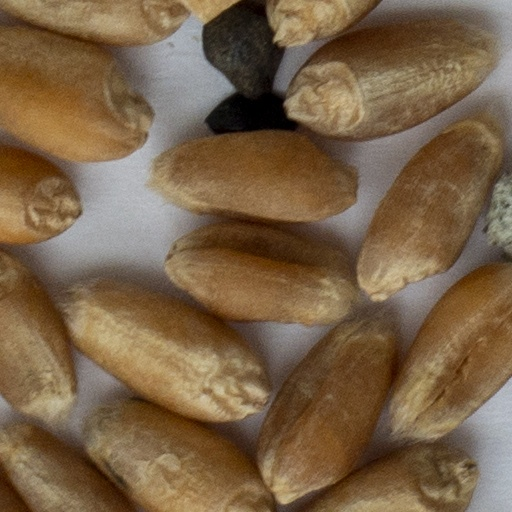Convolvulus-poly: (203, 4, 280, 97)
Fallopia-Convolvulus-poly: (207, 96, 297, 132)
